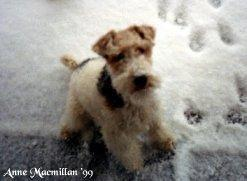wire-haired_fox_terrier: (55, 20, 178, 178)
